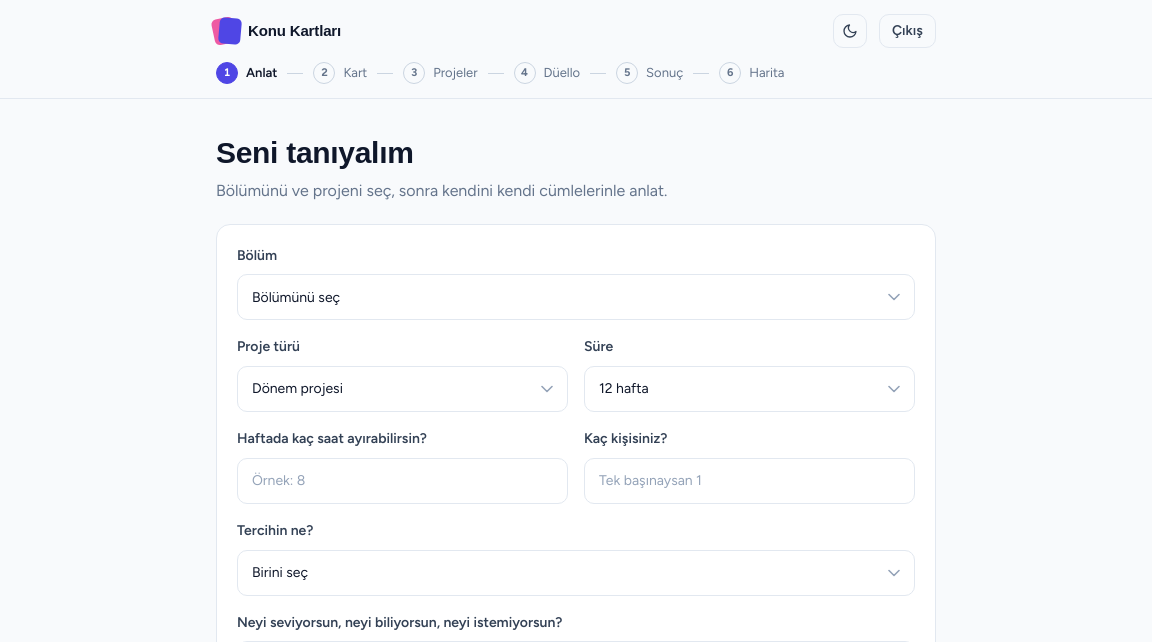
Scenario: Seni tanıyalım (Anlat) › üç soru var: haftalık saat, kişi sayısı, tercih; saat ve kişiye sadece rakam yazılır
expect the dropdown labelled "Bölüm" is enabled: met, box [237,274,915,320]
Type "1a0,5" into the field labelled "Haftada kaç saat ayırabilirsin?".
click(402, 481); type("1a0,5")  # box [237,458,568,504]
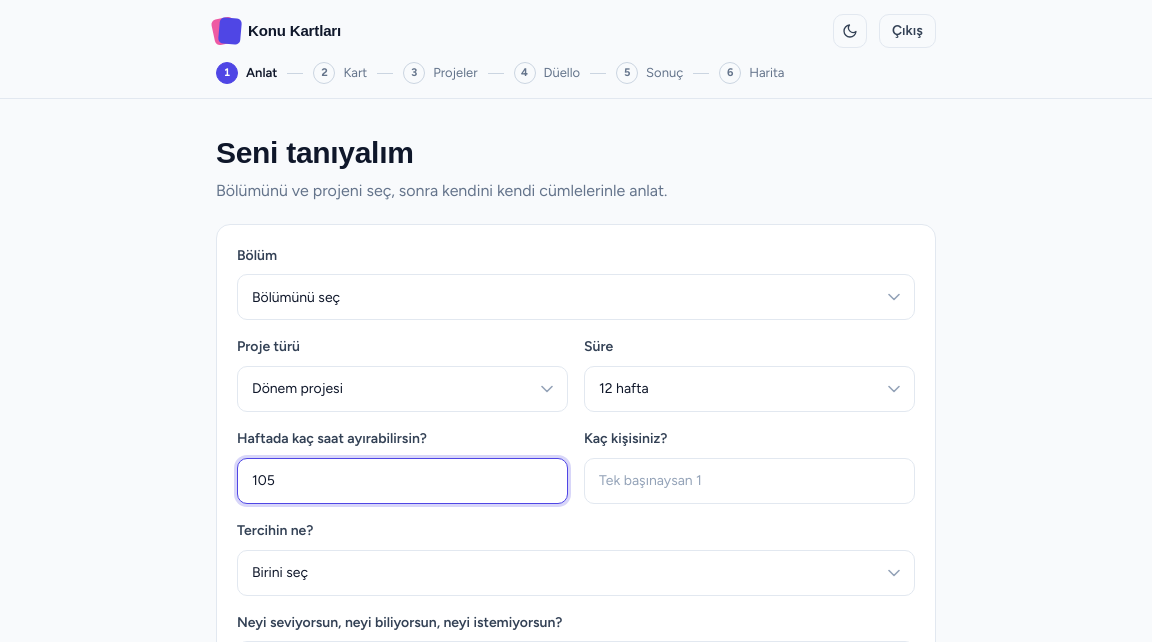
expect the field labelled "Haftada kaç saat ayırabilirsin?" holds "105": met, box [237,458,568,504]
Type "-3" into the field labelled "Kaç kişisiniz?".
click(750, 481); type("-3")  # box [584,458,915,504]
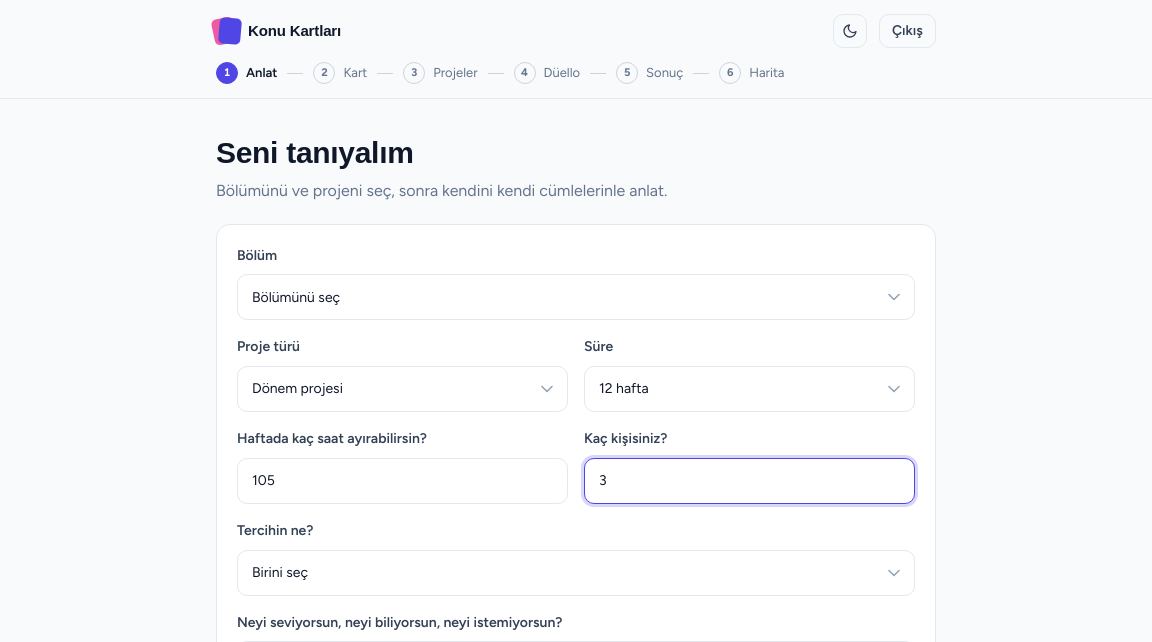
expect the dropdown labelled "Tercihin ne?" shows "Birini seç": met, box [237,550,915,596]
expect the field labelled "Kaç kişisiniz?" holds "3": met, box [584,458,915,504]
